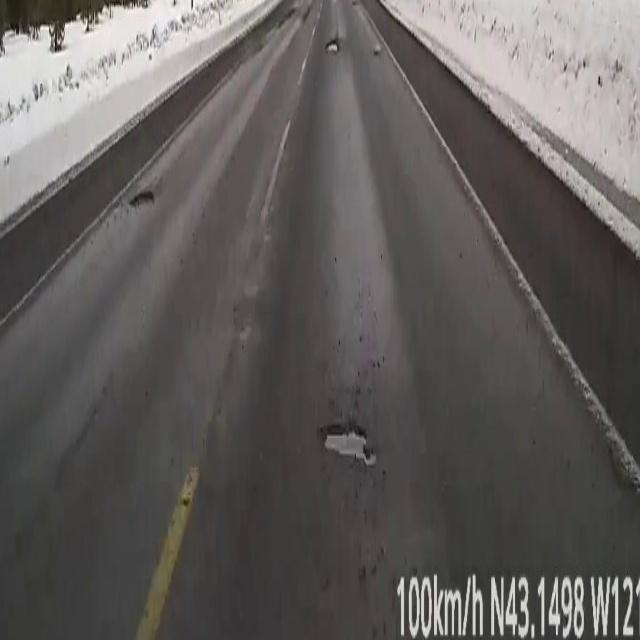pothole: (324, 426, 376, 470), (132, 191, 153, 203), (327, 41, 338, 50)
